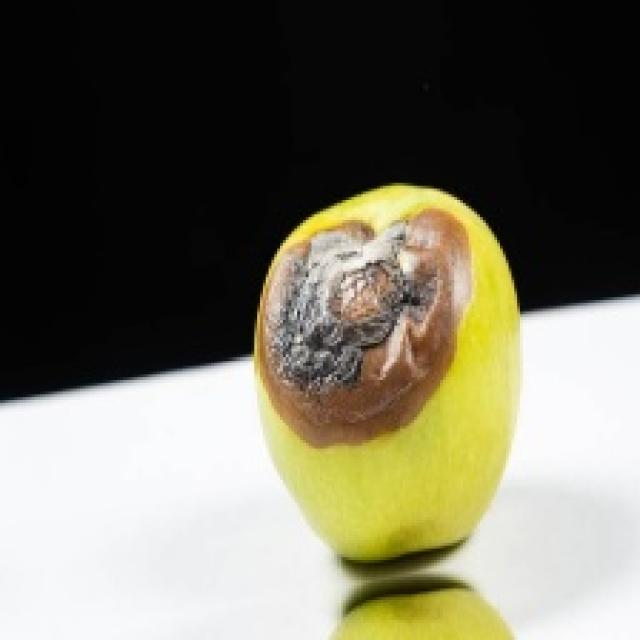rotten_apple: (256, 188, 520, 558)
